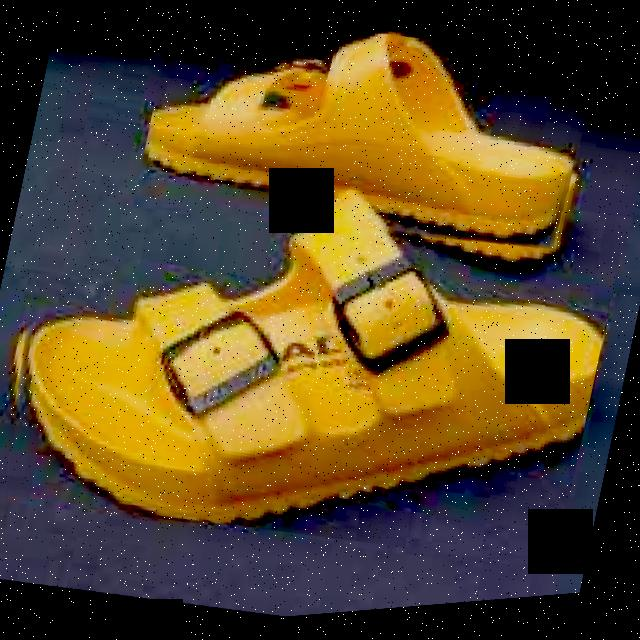shoe: (0, 118, 625, 612), (132, 0, 602, 301)
